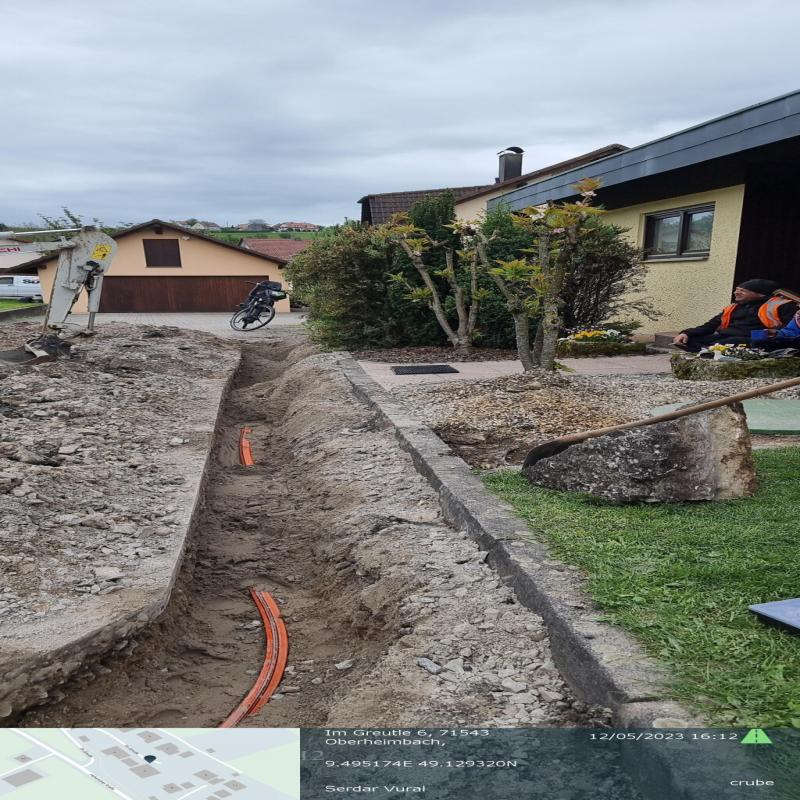Orang-Speednetrohrchen: (215, 589, 290, 728), (240, 425, 260, 466)
